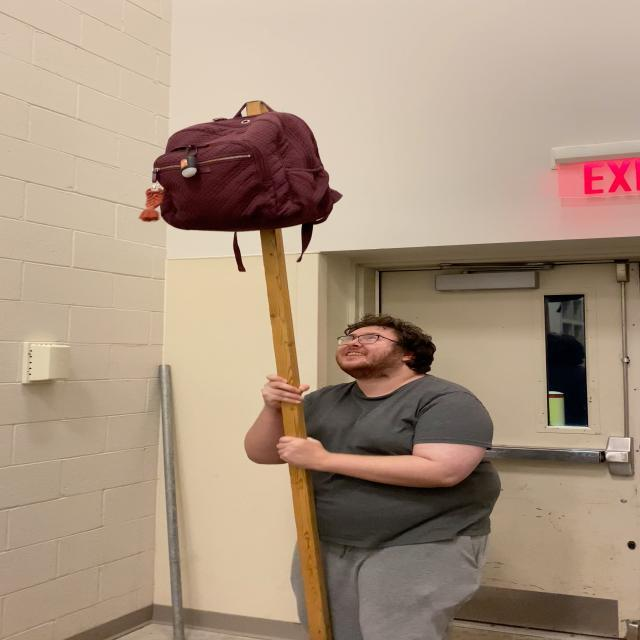Backpacks: (153, 114, 343, 232)
